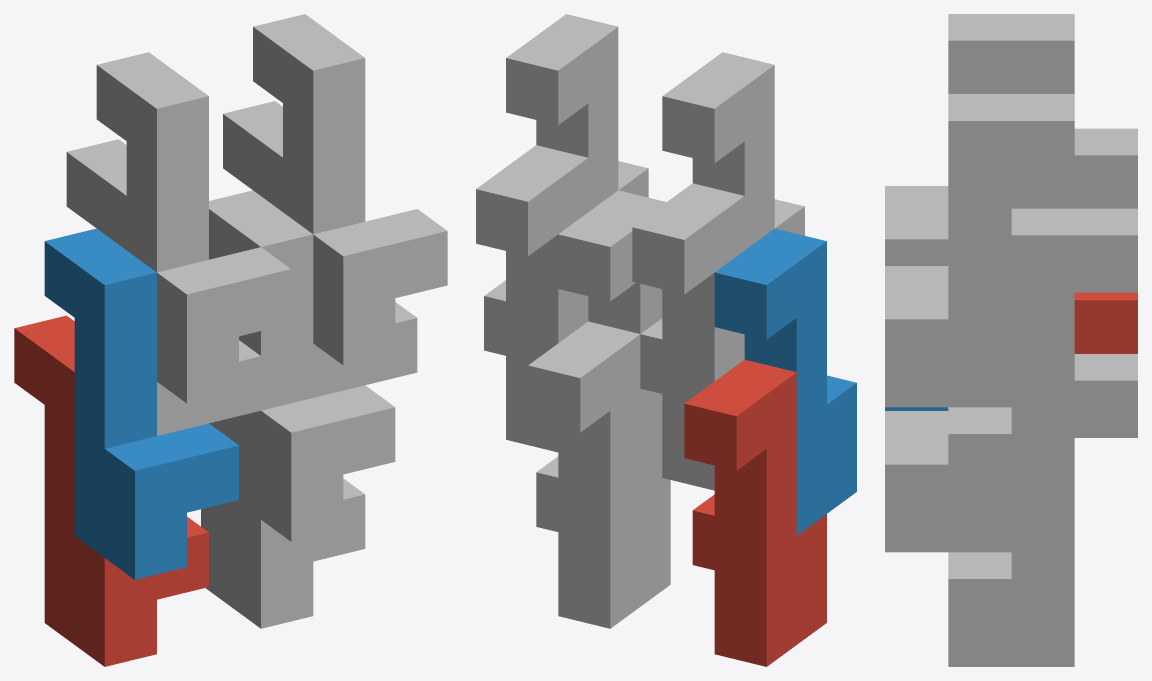
Rendered from tiling.obj.
The picture shows the model from 3 angles, left to right: view 1: azimuth 30°, elevation 25°; view 2: azimuth 150°, elevation 25°; view 3: azimuth 270°, elevation 25°; orthographic projection. The views are drawn at different scales.
Visible parts, largest first — view 1: copy_1_domain_2, copy_1_domain_8, copy_1_domain_4, copy_1_domain_6, copy_1_domain_1, copy_1_domain_5, copy_1_domain_3, copy_1_domain_7; view 2: copy_1_domain_5, copy_1_domain_1, copy_1_domain_2, copy_1_domain_3, copy_1_domain_7, copy_1_domain_8, copy_1_domain_4, copy_1_domain_6; view 3: copy_1_domain_8, copy_1_domain_7, copy_1_domain_5, copy_1_domain_4, copy_1_domain_6, copy_1_domain_3, copy_1_domain_1.
Part boxes in pixels (bbox=[...]): copy_1_domain_2: bbox=[44, 228, 238, 579]; copy_1_domain_8: bbox=[253, 14, 447, 365]; copy_1_domain_4: bbox=[96, 52, 291, 403]; copy_1_domain_6: bbox=[209, 190, 395, 541]; copy_1_domain_1: bbox=[14, 315, 208, 666]; copy_1_domain_5: bbox=[201, 418, 365, 628]; copy_1_domain_3: bbox=[66, 139, 260, 435]; copy_1_domain_7: bbox=[223, 101, 417, 397]; copy_1_domain_5: bbox=[528, 321, 670, 628]; copy_1_domain_1: bbox=[684, 359, 826, 666]; copy_1_domain_2: bbox=[714, 228, 856, 535]; copy_1_domain_3: bbox=[632, 183, 744, 490]; copy_1_domain_7: bbox=[476, 145, 588, 452]; copy_1_domain_8: bbox=[506, 14, 648, 211]; copy_1_domain_4: bbox=[662, 52, 804, 249]; copy_1_domain_6: bbox=[558, 190, 666, 497]; copy_1_domain_8: bbox=[885, 94, 1074, 407]; copy_1_domain_7: bbox=[948, 208, 1137, 521]; copy_1_domain_5: bbox=[948, 354, 1137, 666]; copy_1_domain_4: bbox=[885, 14, 1074, 265]; copy_1_domain_6: bbox=[885, 411, 1011, 552]; copy_1_domain_3: bbox=[1011, 128, 1137, 208]; copy_1_domain_1: bbox=[1074, 292, 1137, 353].
Bounding box in the file's own units: 6 × 10 × 4.
